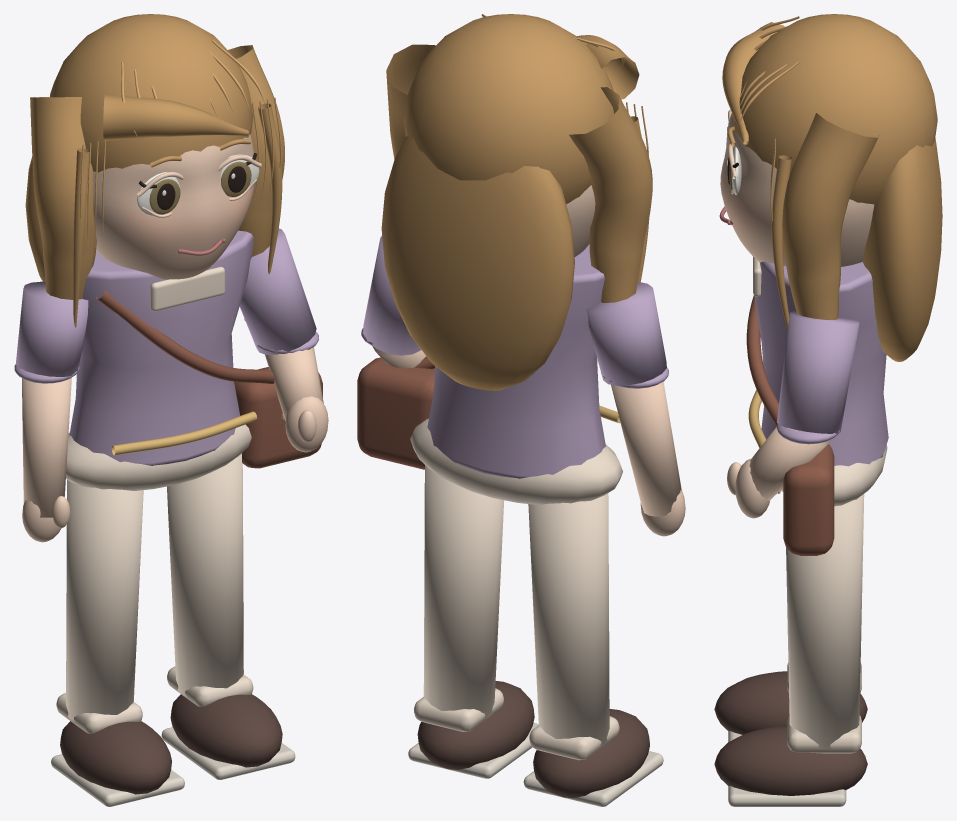
The model's file is customer_female.glb.
3 views of the same model, side by side, from view 1: azimuth 30°, elevation 25°; view 2: azimuth 150°, elevation 25°; view 3: azimuth 270°, elevation 25° (orthographic). The views are drawn at different scales.
Visible parts, largest first — view 1: Clothed_torso.004, Hair_base.005, Leg_L.004, Leg_R.004, Head.005, wave_lock_-1.001, Shoe_L.004, Shoe_R.004, Sleeve_1.004, Bare_forearm_-1.004, Sleeve_-1.004, Tailored_hips (+16 smaller); view 2: hair_back_volume.001, Hair_base.005, Clothed_torso.004, Leg_L.004, Leg_R.004, wave_lock_-1.001, Crossbody_bag, Tailored_hips, Bare_forearm_-1.004, Sleeve_-1.004, Shoe_L.004, Shoe_R.004 (+9 smaller); view 3: Hair_base.005, Leg_R.004, hair_back_volume.001, wave_lock_1.001, Clothed_torso.004, Sleeve_1.004, Shoe_R.004, Head.005, Crossbody_bag, Shoe_L.004, Bare_forearm_1.004, side_fringe.001 (+8 smaller).
Part boxes in pixels (x1,y1,x2,y2): Clothed_torso.004: [69, 230, 253, 465]; Hair_base.005: [50, 14, 253, 172]; Leg_L.004: [66, 479, 143, 721]; Leg_R.004: [167, 453, 243, 696]; Head.005: [93, 134, 254, 279]; wave_lock_-1.001: [30, 97, 96, 299]; Shoe_L.004: [60, 721, 171, 794]; Shoe_R.004: [170, 694, 282, 767]; Sleeve_1.004: [239, 228, 316, 354]; Bare_forearm_-1.004: [22, 377, 71, 517]; Sleeve_-1.004: [16, 281, 88, 376]; Tailored_hips: [66, 424, 251, 490]; hair_back_volume.001: [381, 135, 574, 390]; Hair_base.005: [403, 14, 614, 203]; Clothed_torso.004: [427, 244, 605, 478]; Leg_L.004: [528, 493, 609, 745]; Leg_R.004: [423, 465, 504, 720]; wave_lock_-1.001: [569, 87, 652, 302]; Crossbody_bag: [357, 357, 434, 469]; Tailored_hips: [410, 418, 622, 504]; Bare_forearm_-1.004: [611, 381, 681, 516]; Sleeve_-1.004: [586, 282, 666, 385]; Shoe_L.004: [533, 709, 649, 798]; Shoe_R.004: [417, 681, 534, 769]; Hair_base.005: [731, 14, 937, 204]; Leg_R.004: [786, 494, 864, 749]; hair_back_volume.001: [862, 138, 942, 361]; wave_lock_1.001: [782, 113, 879, 319]; Clothed_torso.004: [754, 261, 888, 466]; Sleeve_1.004: [777, 311, 859, 433]; Shoe_R.004: [714, 726, 867, 795]; Head.005: [720, 113, 874, 266]; Crossbody_bag: [783, 444, 834, 555]; Shoe_L.004: [714, 671, 867, 734]; Bare_forearm_1.004: [749, 427, 828, 500]; side_fringe.001: [722, 22, 784, 144].
Bounding box in the file's own units: 0.8761 × 2.05 × 0.5684.
Materials: 15 (1 with a texture image).
